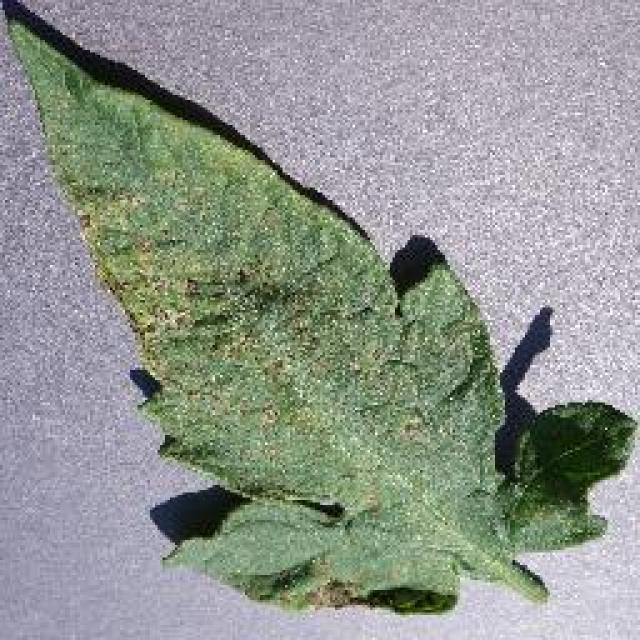Tomato Septoria spot leaf: (1, 16, 640, 616)
